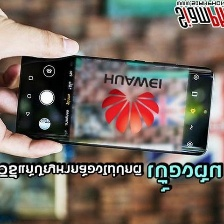phone: (12, 46, 217, 159)
